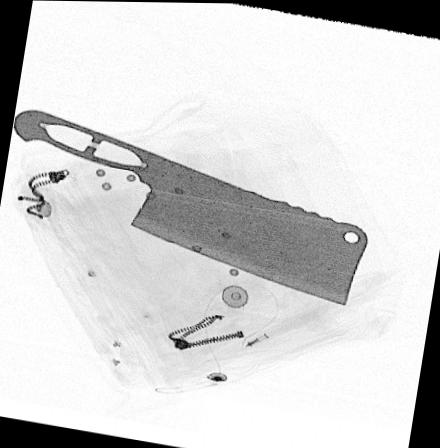Knife: (13, 106, 372, 307)
